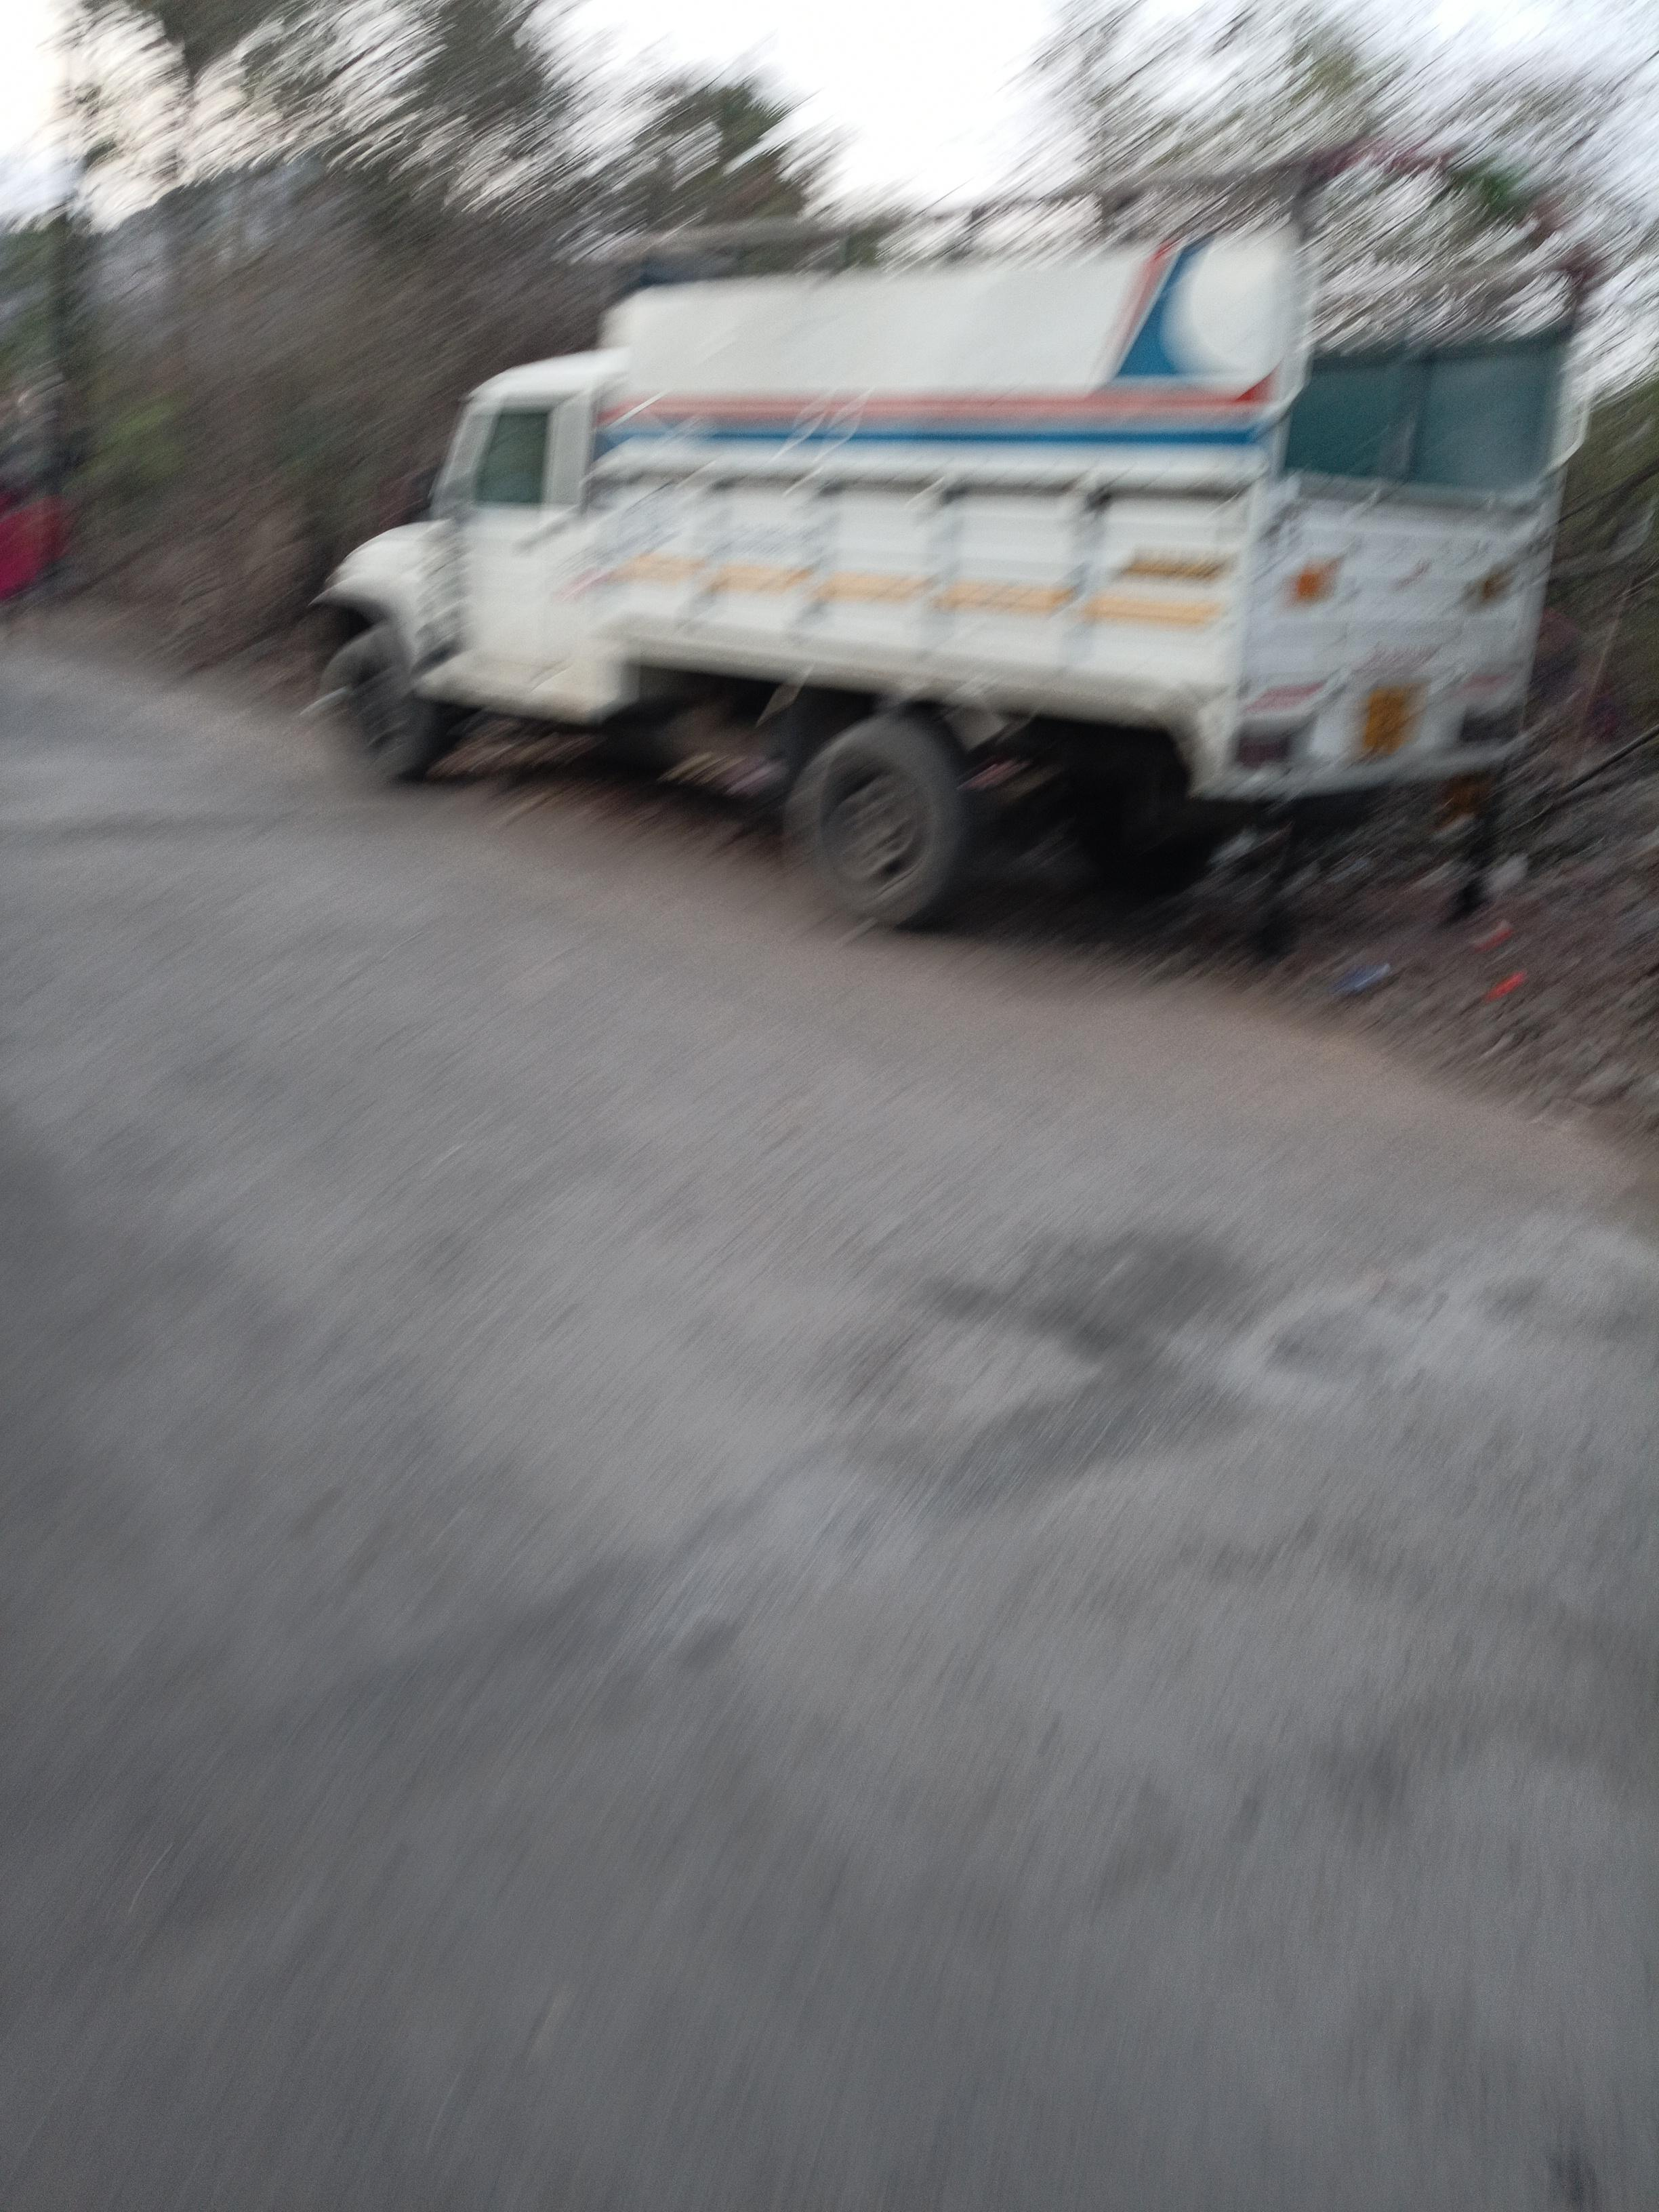Truck: (288, 113, 1591, 890)
